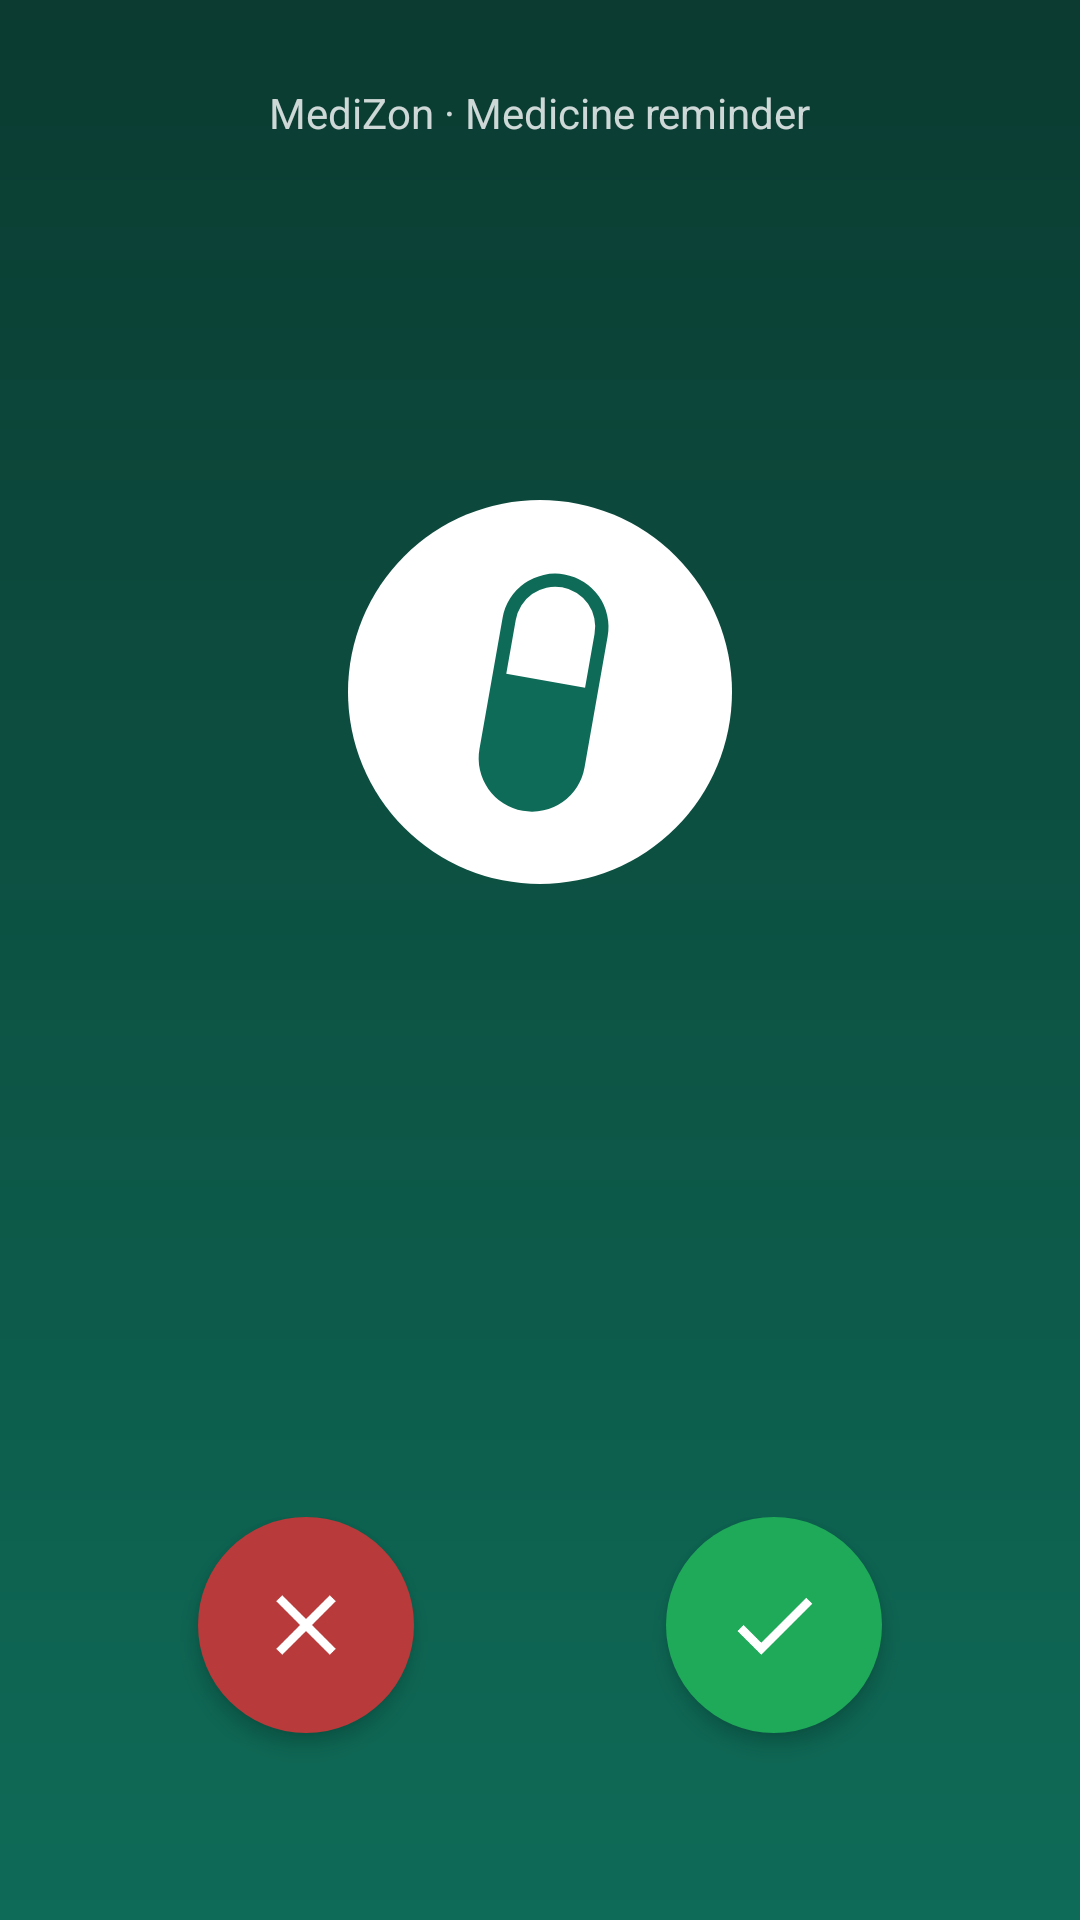

Icons on this 1080x1920 Android screen, each with its box as (x1, y1, x2, y2):
check: (666, 1517, 882, 1733)
close: (198, 1517, 414, 1733)
